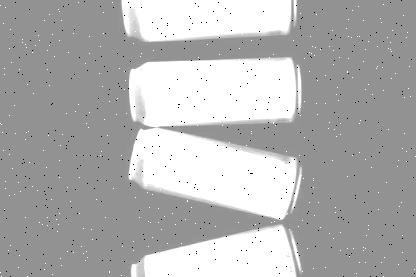Can: (127, 126, 302, 219), (126, 53, 302, 126), (130, 221, 303, 277), (121, 0, 298, 41)
